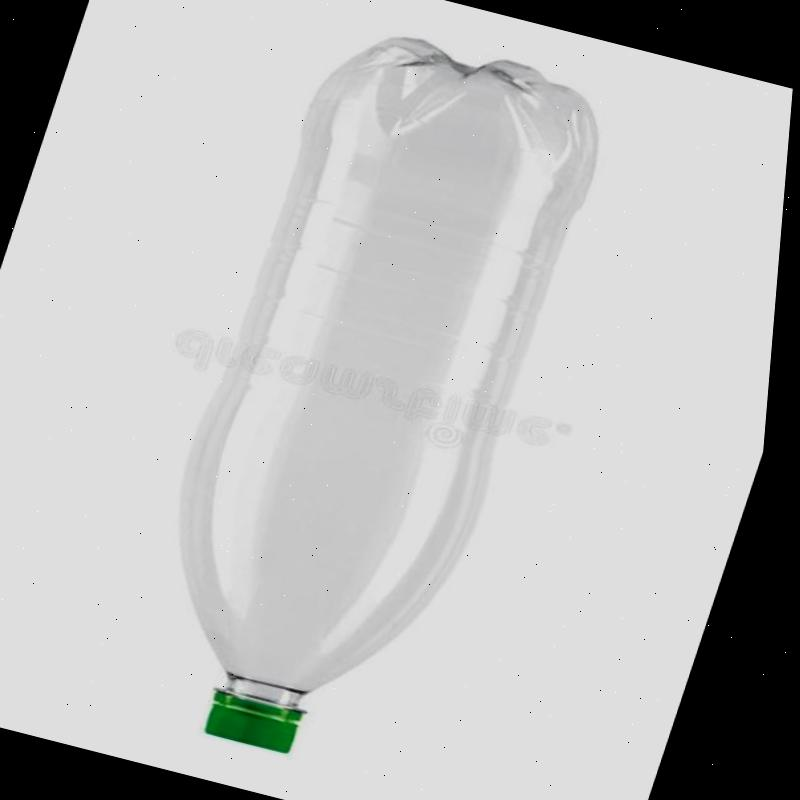botella: (118, 18, 628, 779)
